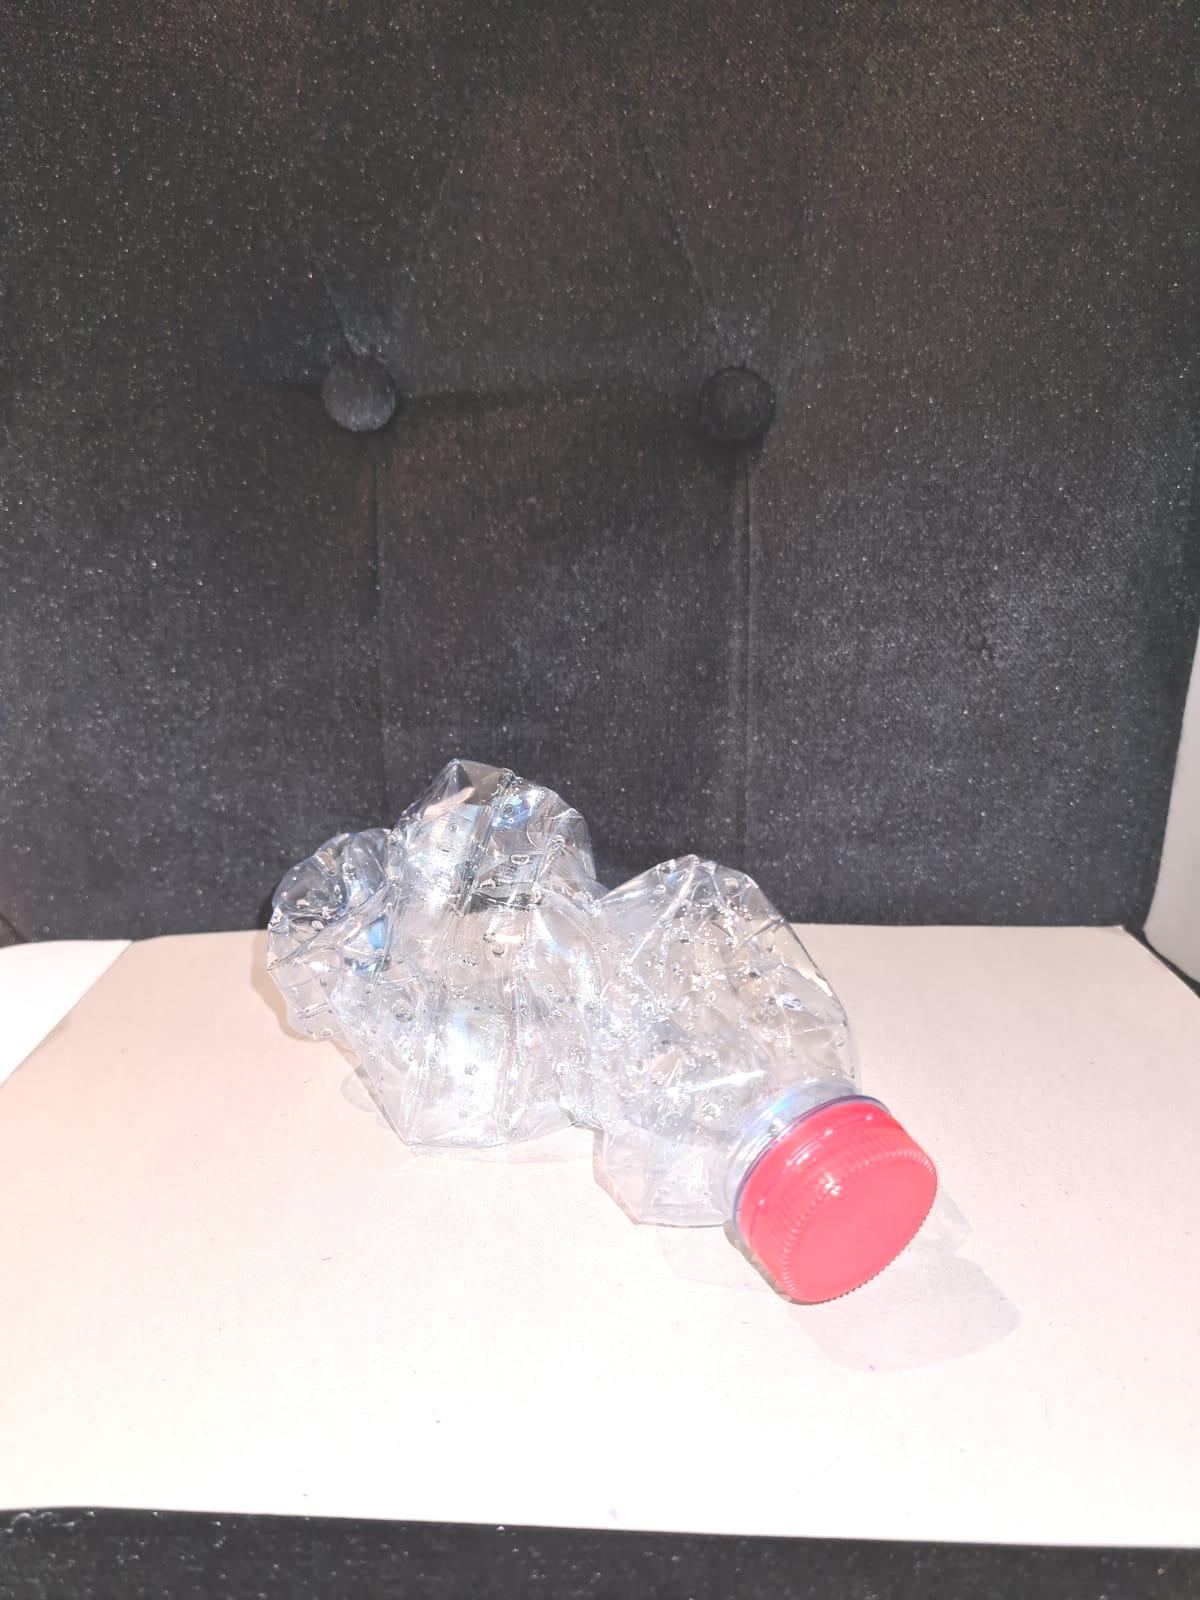bottle: (212, 753, 971, 1291)
